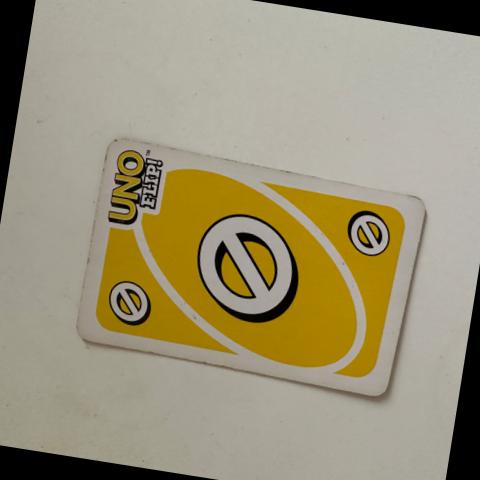lyellowskip-20: (85, 263, 172, 340)
